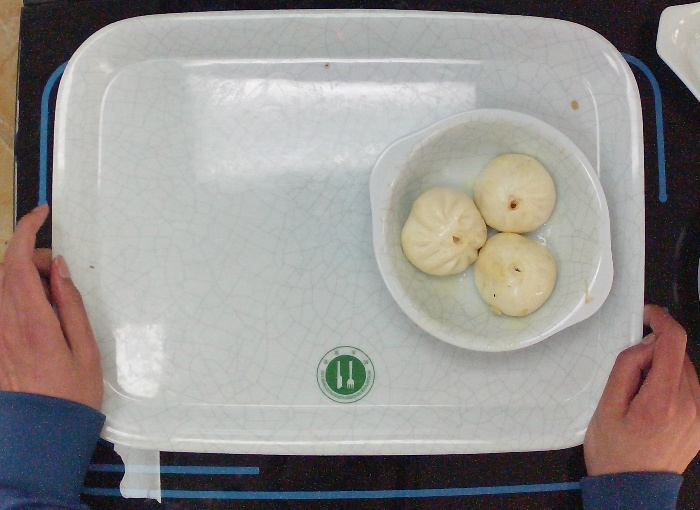JYsf-Shuang_Er_Wan: (364, 105, 617, 354)
